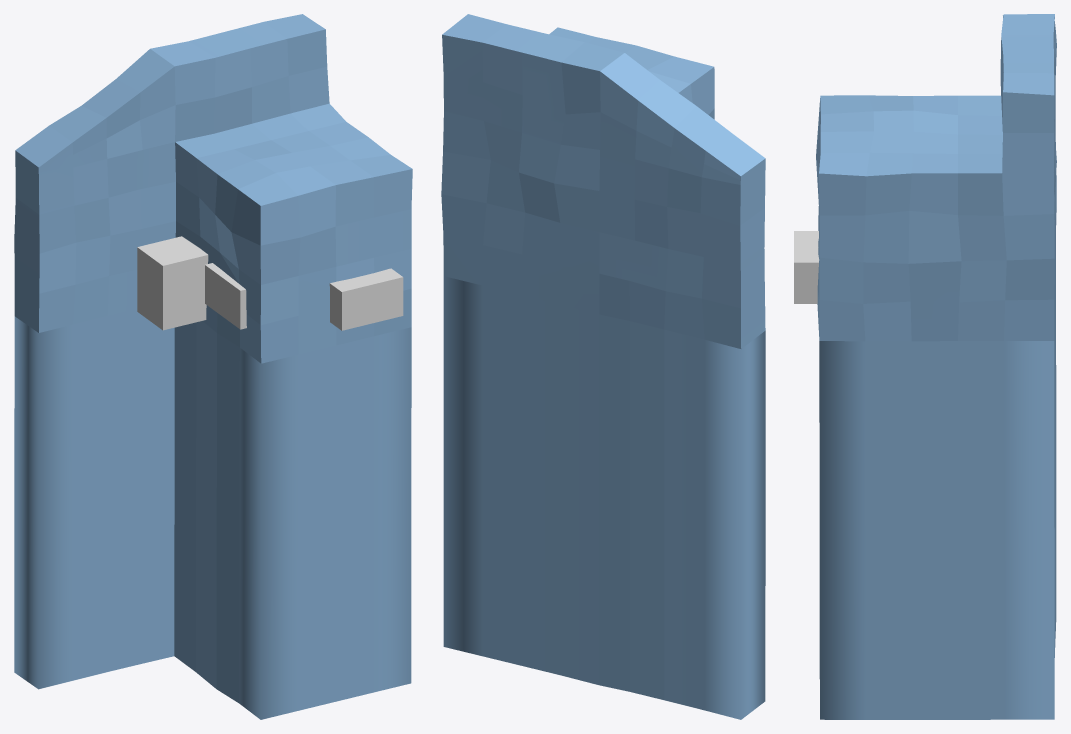
The model's file is FishingShop.fbx.
3 views of the same model, side by side, from view 1: azimuth 30°, elevation 25°; view 2: azimuth 150°, elevation 25°; view 3: azimuth 270°, elevation 25° (orthographic). The views are drawn at different scales.
Parts seen in each view (by area): view 1: House.002, Cube.006, Cube.008, Cube.007; view 2: House.002; view 3: House.002, Cube.008.
Boxes of the visible parts, box(x1,y1,x2,y2) form: House.002: box(14, 14, 412, 719); Cube.006: box(137, 236, 208, 330); Cube.008: box(329, 268, 403, 330); Cube.007: box(205, 263, 246, 329); House.002: box(441, 14, 765, 719); House.002: box(816, 14, 1056, 719); Cube.008: box(794, 231, 819, 303).
Size of the model in its own units: 387 by 752 by 285.
